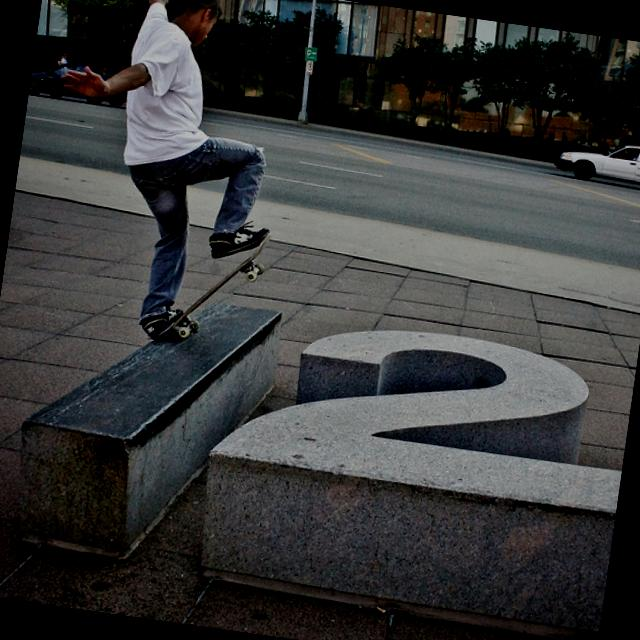Vehicle: (549, 133, 640, 192), (29, 59, 110, 102)
